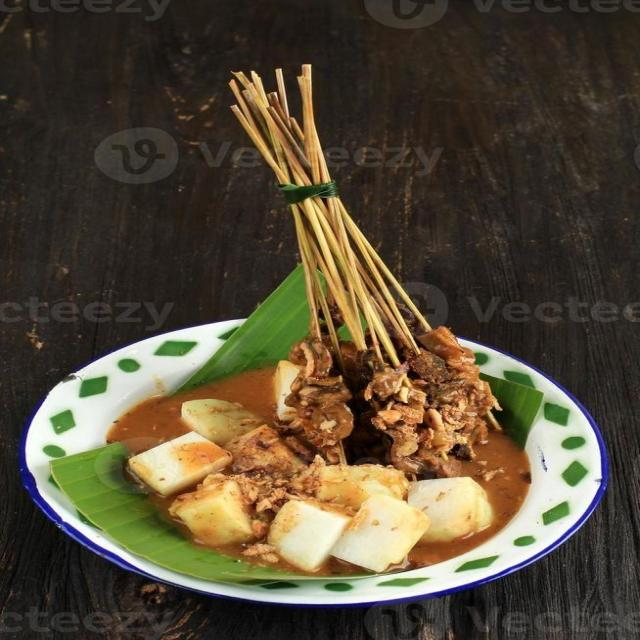Sate: (234, 52, 538, 466)
